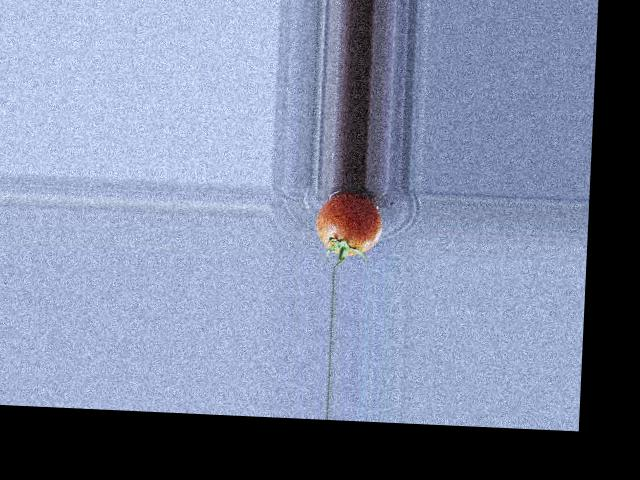tomato: (315, 190, 383, 255)
